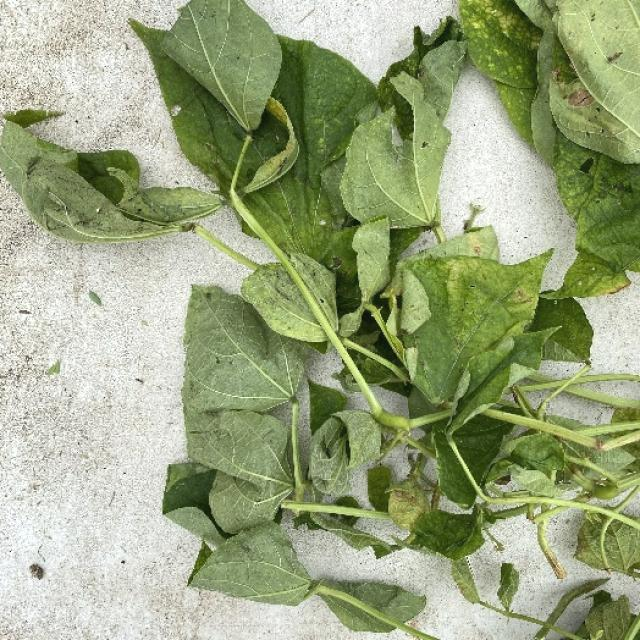wet: (552, 138, 601, 222)
